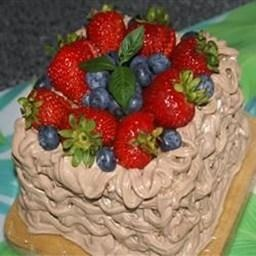background: (4, 1, 100, 102)
